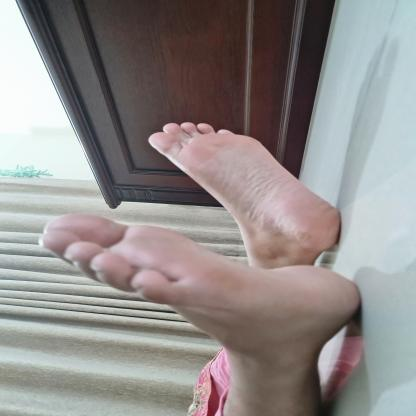leg: (25, 203, 367, 416), (139, 115, 357, 262)
